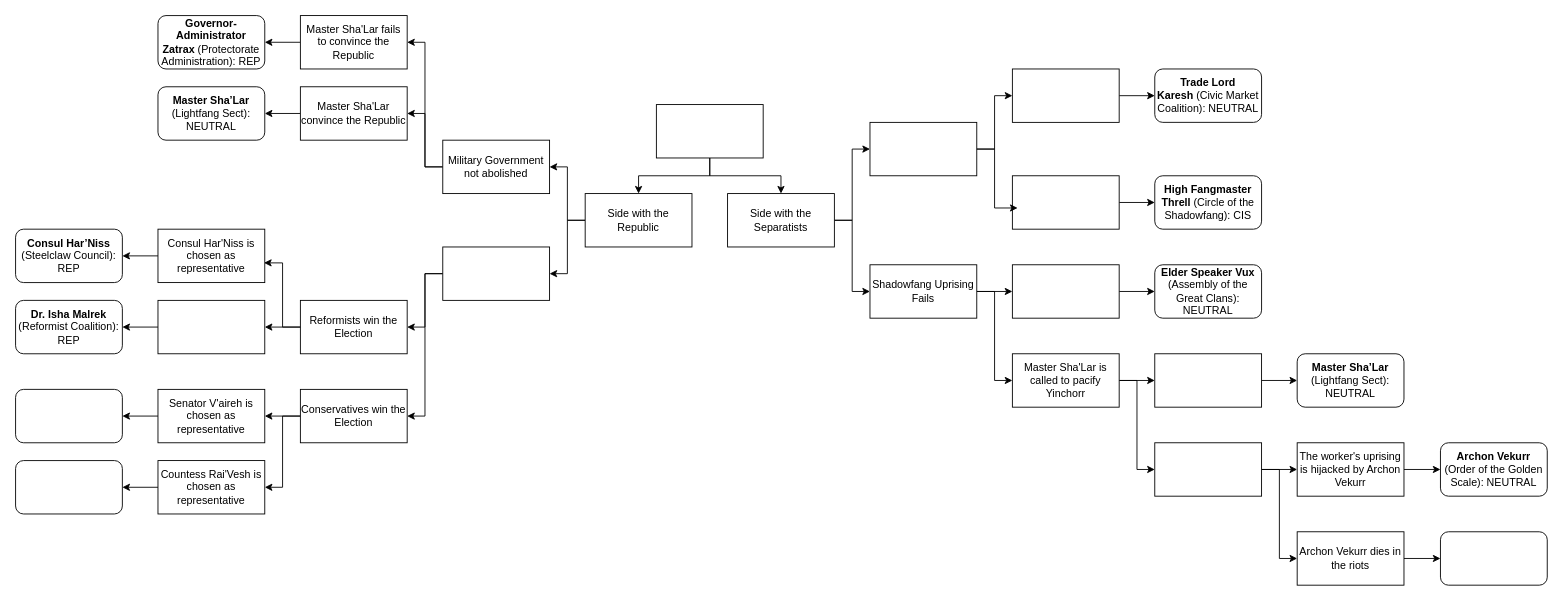
The diagram is 1563 pixels wide and 601 high, and some of its shapes have lost their labels. The centre of each missing label's shape, as x and y in pixels:
Countess Rai’Vesh (Yinn Loyal Assembly): REP: (68,487)
Dr. Isha Malrek is chosen as representative: (211,326)
Elder Speaker Vux secure Yinchorr Independence: (1065,291)
Foreman Zur-Vek (Workers’ Guild Alliance): NEUTRAL: (1493,558)
High Fangmaster Threll eliminate Karesh: (1065,202)
Master Sha'Lar is assassinated by the Order of the Golden Scale: (1208,469)
Master Sha'Lar suceed in paciftying the planet: (1208,380)
Military Government is abolished: (496,273)
Senator V’aireh (Inclusivity Front): NEUTRAL: (68,415)
Shadowfang Uprising Suceed: (923,148)
Trade Lord Karesh eliminate the Shadowfang: (1065,95)
Yinchorr at a crossroad: (709,131)
